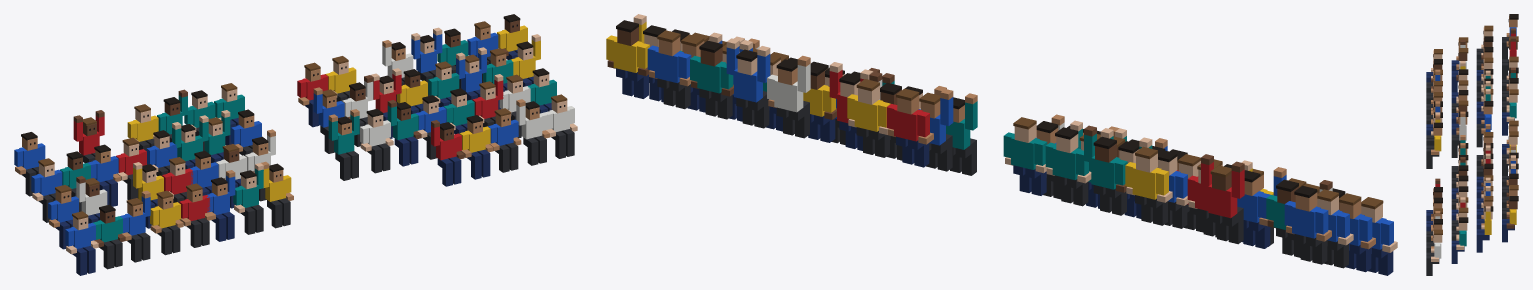
The model's file is Crowd_01.glb.
3 renders of one model, left to right at view 1: azimuth 30°, elevation 25°; view 2: azimuth 150°, elevation 25°; view 3: azimuth 270°, elevation 25°, orthographic. The views are drawn at different scales.
Parts seen in each view (by area): view 1: CrowdA_Shirt2, CrowdA_Pants2, CrowdA_Shirt5, CrowdB_Pants2, CrowdB_Shirt5, CrowdB_Shirt2, CrowdB_Shirt4, CrowdB_Skin1, CrowdB_Pants1, CrowdA_Skin2, CrowdA_Skin1, CrowdB_Shirt3 (+12 smaller); view 2: CrowdA_Pants2, CrowdB_Pants2, CrowdA_Shirt2, CrowdA_Shirt5, CrowdA_Skin1, CrowdB_Pants1, CrowdB_Shirt2, CrowdB_Shirt3, CrowdA_Pants1, CrowdB_Skin2, CrowdB_Skin1, CrowdB_Shirt5 (+11 smaller); view 3: CrowdA_Pants2, CrowdB_Pants1, CrowdB_Pants2, CrowdB_Skin1, CrowdA_Skin1, CrowdA_Skin2, CrowdA_Pants1, CrowdB_Hair1, CrowdB_Skin2, CrowdA_Hair1, CrowdA_Hair2, CrowdB_Skin3 (+14 smaller).
Part boxes in pixels (x1,y1,x2,y2): CrowdA_Shirt2: (14, 121, 261, 248); CrowdA_Pants2: (21, 127, 290, 269); CrowdA_Shirt5: (60, 94, 263, 242); CrowdB_Pants2: (320, 56, 574, 180); CrowdB_Shirt5: (328, 40, 556, 154); CrowdB_Shirt2: (313, 32, 518, 145); CrowdB_Shirt4: (342, 45, 574, 146); CrowdB_Skin1: (332, 27, 577, 151); CrowdB_Pants1: (304, 49, 551, 186); CrowdA_Skin2: (15, 115, 293, 240); CrowdA_Skin1: (32, 88, 263, 254); CrowdB_Shirt3: (325, 25, 540, 152); CrowdA_Pants2: (1043, 174, 1348, 268); CrowdB_Pants2: (657, 78, 976, 175); CrowdA_Shirt2: (1036, 137, 1393, 249); CrowdA_Shirt5: (1003, 128, 1286, 229); CrowdA_Skin1: (1005, 120, 1397, 252); CrowdB_Pants1: (616, 68, 929, 167); CrowdB_Shirt2: (647, 40, 953, 145); CrowdB_Shirt3: (606, 22, 890, 131); CrowdA_Pants1: (1013, 165, 1393, 275); CrowdB_Skin2: (649, 37, 977, 144); CrowdB_Skin1: (633, 14, 922, 134); CrowdB_Shirt5: (679, 50, 977, 149); CrowdA_Pants2: (1426, 37, 1509, 168); CrowdB_Pants1: (1426, 144, 1514, 263); CrowdB_Pants2: (1426, 154, 1509, 275); CrowdB_Skin1: (1431, 133, 1517, 261); CrowdA_Skin1: (1431, 27, 1517, 135); CrowdA_Skin2: (1431, 16, 1517, 154); CrowdA_Pants1: (1426, 60, 1514, 135); CrowdB_Hair1: (1434, 143, 1518, 224); CrowdB_Skin2: (1431, 122, 1517, 248); CrowdA_Hair1: (1434, 14, 1518, 127); CrowdA_Hair2: (1434, 25, 1518, 105); CrowdB_Skin3: (1431, 143, 1517, 228).
Size of the model in its own units: 54.3 by 10.63 by 10.97.
